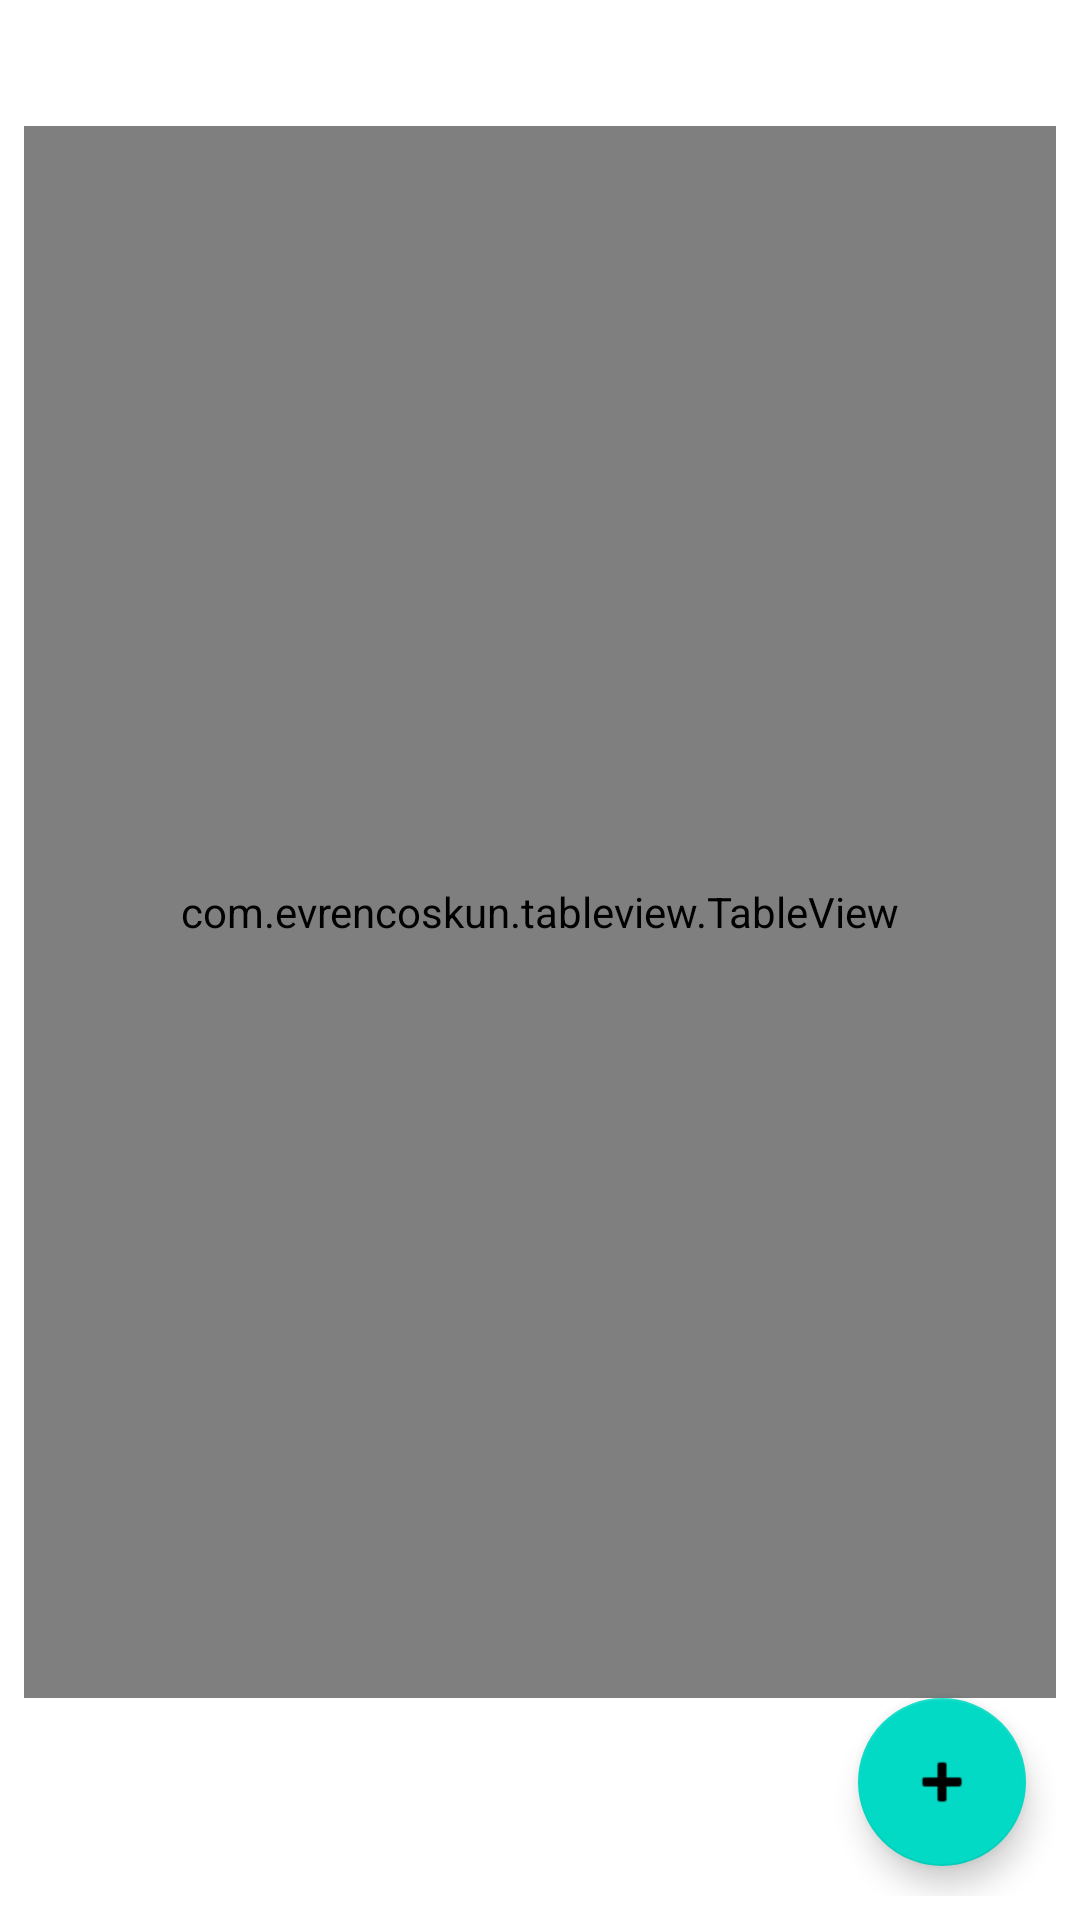

Where to tap for icons on this 1080x1920 app screen, as (x,y):
add: (942,1782)
